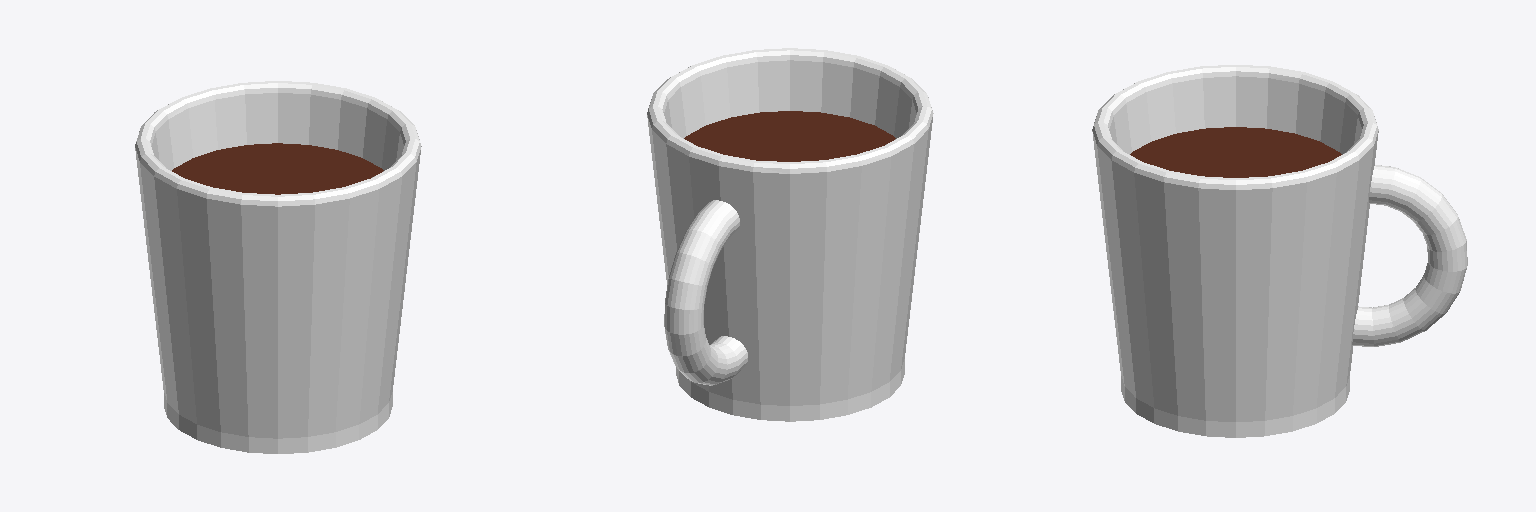
3 views of the same model, side by side, from view 1: azimuth 30°, elevation 25°; view 2: azimuth 150°, elevation 25°; view 3: azimuth 270°, elevation 25° (orthographic).
Parts seen in each view (by area): view 1: SketchUp.003_ID25.005, SketchUp.004_ID31.006, SketchUp.012_ID79.005, SketchUp.005_ID37.006, SketchUp_ID3.011, SketchUp.001_ID13.010, SketchUp.007_ID49.004, SketchUp.008_ID55.005; view 2: SketchUp.003_ID25.005, SketchUp.004_ID31.006, SketchUp.009_ID61.002, SketchUp.012_ID79.005, SketchUp.005_ID37.006, SketchUp.001_ID13.010, SketchUp.007_ID49.004, SketchUp_ID3.011, SketchUp.008_ID55.005, SketchUp.006_ID43.006; view 3: SketchUp.003_ID25.005, SketchUp.004_ID31.006, SketchUp.009_ID61.002, SketchUp.012_ID79.005, SketchUp.005_ID37.006, SketchUp.001_ID13.010, SketchUp.006_ID43.006, SketchUp.008_ID55.005, SketchUp.007_ID49.004.
Boxes of the visible parts, x1,y1,x2,y2 form: SketchUp.003_ID25.005: [135, 146, 421, 438]; SketchUp.004_ID31.006: [152, 93, 403, 170]; SketchUp.012_ID79.005: [172, 143, 383, 194]; SketchUp.005_ID37.006: [143, 81, 420, 206]; SketchUp_ID3.011: [167, 403, 388, 453]; SketchUp.001_ID13.010: [164, 392, 392, 452]; SketchUp.007_ID49.004: [135, 98, 211, 188]; SketchUp.008_ID55.005: [242, 187, 348, 200]; SketchUp.003_ID25.005: [647, 115, 932, 405]; SketchUp.004_ID31.006: [664, 60, 916, 138]; SketchUp.009_ID61.002: [664, 200, 747, 385]; SketchUp.012_ID79.005: [684, 111, 895, 161]; SketchUp.005_ID37.006: [647, 48, 933, 173]; SketchUp.001_ID13.010: [676, 367, 900, 419]; SketchUp.007_ID49.004: [754, 106, 927, 171]; SketchUp_ID3.011: [761, 359, 904, 421]; SketchUp.008_ID55.005: [824, 52, 925, 108]; SketchUp.006_ID43.006: [649, 77, 678, 138]; SketchUp.003_ID25.005: [1092, 131, 1378, 421]; SketchUp.004_ID31.006: [1109, 76, 1361, 154]; SketchUp.009_ID61.002: [1352, 165, 1467, 346]; SketchUp.012_ID79.005: [1130, 127, 1341, 177]; SketchUp.005_ID37.006: [1092, 67, 1378, 189]; SketchUp.001_ID13.010: [1125, 376, 1349, 437]; SketchUp.006_ID43.006: [1236, 152, 1357, 184]; SketchUp.008_ID55.005: [1094, 74, 1170, 138]; SketchUp.007_ID49.004: [1167, 65, 1370, 110].
Bounding box in the file's own units: 0.2546 × 0.2619 × 0.3336.